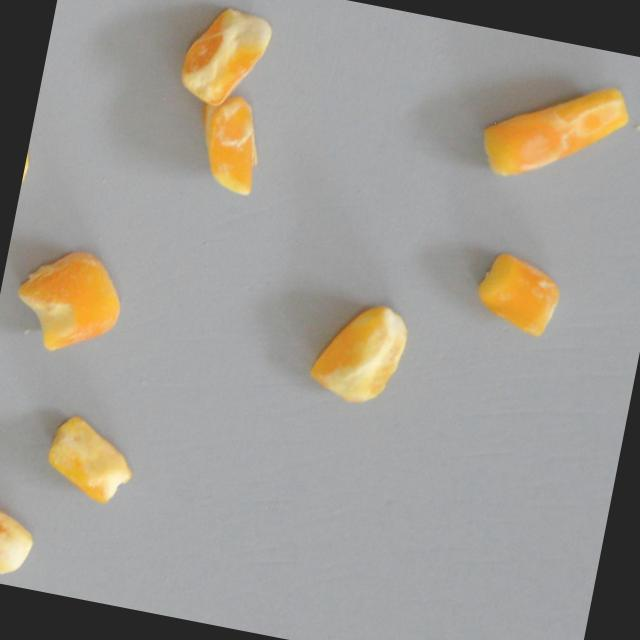dañado: (466, 60, 636, 206), (3, 234, 133, 367), (298, 288, 415, 417), (172, 0, 279, 119), (465, 243, 567, 348), (180, 91, 270, 203), (0, 499, 43, 584)
pelicula: (37, 406, 143, 510)
